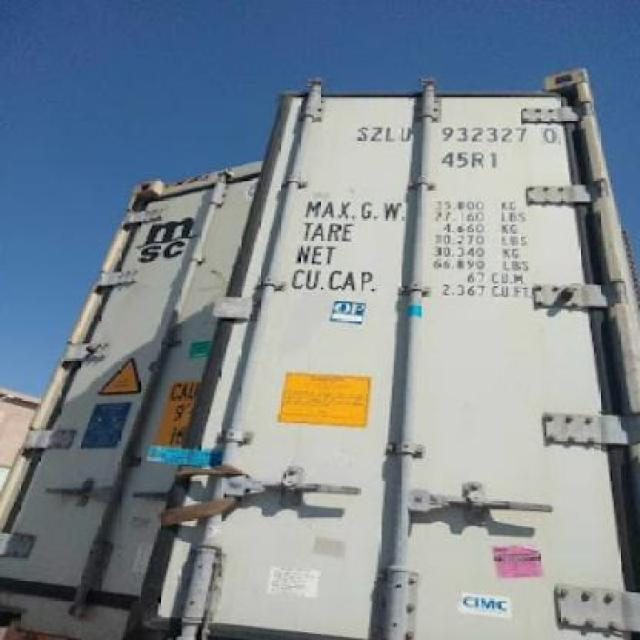ISO: (434, 150, 502, 170)
container_number: (364, 123, 551, 144)
